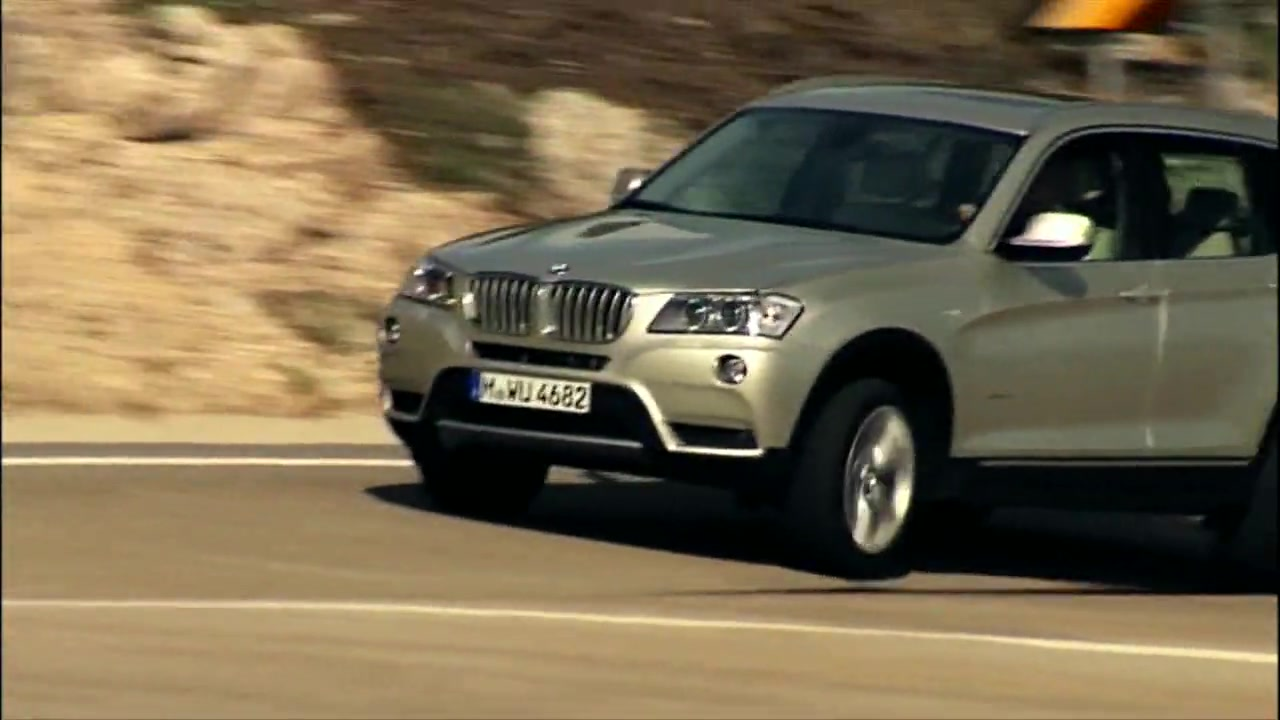car: (373, 68, 1279, 581)
